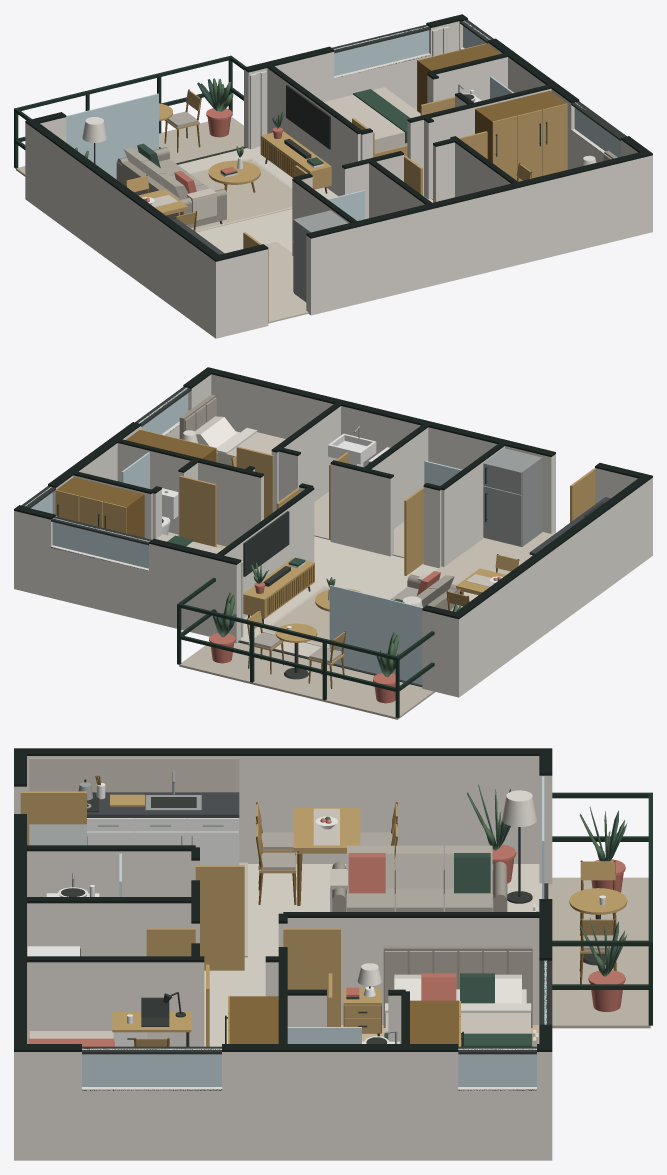
Rendered from jda-interior-tipo-b-simples.glb.
3 views of the same model, one above another, from view 1: azimuth 30°, elevation 25°; view 2: azimuth 150°, elevation 25°; view 3: azimuth 270°, elevation 25° (orthographic). The views are drawn at different scales.
Visible parts, largest first — view 1: VIS__INTB_PAREDE, VIS__INTB_MADEIRA, VIS__INTB_CORTE, VIS__INTB_VIDRO, VIS__INTB_MADEIRA_ESC, VIS__INTB_PISO, VIS__INTB_TECIDO2, VIS__INTB_ESCURO, VIS__INTB_TAPETE, VIS__INTB_TECIDO, VIS__INTB_VARANDA, VIS__INTB_GUARDACORPO (+7 smaller); view 2: VIS__INTB_PAREDE, VIS__INTB_MADEIRA, VIS__INTB_VIDRO, VIS__INTB_CORTE, VIS__INTB_VARANDA, VIS__INTB_PISO, VIS__INTB_INOX, VIS__INTB_MADEIRA_ESC, VIS__INTB_ESCURO, VIS__INTB_GUARDACORPO, VIS__INTB_MOLHADO, VIS__INTB_ESTOFADO2 (+8 smaller); view 3: VIS__INTB_PAREDE, VIS__INTB_MADEIRA, VIS__INTB_CORTE, VIS__INTB_ESTOFADO2, VIS__INTB_TECIDO2, VIS__INTB_VIDRO, VIS__INTB_VARANDA, VIS__INTB_PISO, VIS__INTB_BRANCO, VIS__INTB_MADEIRA_ESC, VIS__INTB_ESCURO, VIS__INTB_TERRACOTA (+7 smaller).
Boxes of the visible parts, x1=… form: VIS__INTB_PAREDE: x1=25, y1=21, x2=652, y2=338; VIS__INTB_MADEIRA: x1=126, y1=43, x2=567, y2=323; VIS__INTB_CORTE: x1=25, y1=14, x2=652, y2=261; VIS__INTB_VIDRO: x1=66, y1=20, x2=620, y2=220; VIS__INTB_MADEIRA_ESC: x1=125, y1=44, x2=566, y2=231; VIS__INTB_PISO: x1=178, y1=146, x2=432, y2=323; VIS__INTB_TECIDO2: x1=151, y1=87, x2=420, y2=232; VIS__INTB_ESCURO: x1=94, y1=20, x2=626, y2=224; VIS__INTB_TAPETE: x1=191, y1=159, x2=292, y2=229; VIS__INTB_TECIDO: x1=82, y1=26, x2=596, y2=166; VIS__INTB_VARANDA: x1=16, y1=116, x2=244, y2=176; VIS__INTB_GUARDACORPO: x1=14, y1=55, x2=246, y2=168; VIS__INTB_PAREDE: x1=14, y1=374, x2=652, y2=697; VIS__INTB_MADEIRA: x1=55, y1=429, x2=594, y2=665; VIS__INTB_VIDRO: x1=25, y1=387, x2=462, y2=684; VIS__INTB_CORTE: x1=14, y1=367, x2=652, y2=619; VIS__INTB_VARANDA: x1=179, y1=642, x2=435, y2=719; VIS__INTB_PISO: x1=240, y1=536, x2=477, y2=656; VIS__INTB_INOX: x1=164, y1=426, x2=542, y2=546; VIS__INTB_MADEIRA_ESC: x1=56, y1=430, x2=519, y2=688; VIS__INTB_ESCURO: x1=21, y1=386, x2=604, y2=686; VIS__INTB_GUARDACORPO: x1=177, y1=577, x2=434, y2=717; VIS__INTB_MOLHADO: x1=168, y1=492, x2=555, y2=585; VIS__INTB_ESTOFADO2: x1=184, y1=397, x2=462, y2=663; VIS__INTB_PAREDE: x1=14, y1=756, x2=552, y2=1160; VIS__INTB_MADEIRA: x1=20, y1=791, x2=627, y2=1046; VIS__INTB_CORTE: x1=14, y1=748, x2=552, y2=1090; VIS__INTB_ESTOFADO2: x1=261, y1=832, x2=613, y2=1003; VIS__INTB_TECIDO2: x1=29, y1=758, x2=530, y2=1038; VIS__INTB_VIDRO: x1=82, y1=776, x2=546, y2=1086; VIS__INTB_VARANDA: x1=548, y1=877, x2=650, y2=1028; VIS__INTB_PISO: x1=204, y1=864, x2=541, y2=1046; VIS__INTB_BRANCO: x1=27, y1=783, x2=605, y2=1046; VIS__INTB_MADEIRA_ESC: x1=95, y1=775, x2=616, y2=1046; VIS__INTB_ESCURO: x1=61, y1=779, x2=605, y2=1054; VIS__INTB_TERRACOTA: x1=28, y1=818, x2=625, y2=1046.
Bounding box in the file's own units: 8.15 × 1.44 × 7.3.
